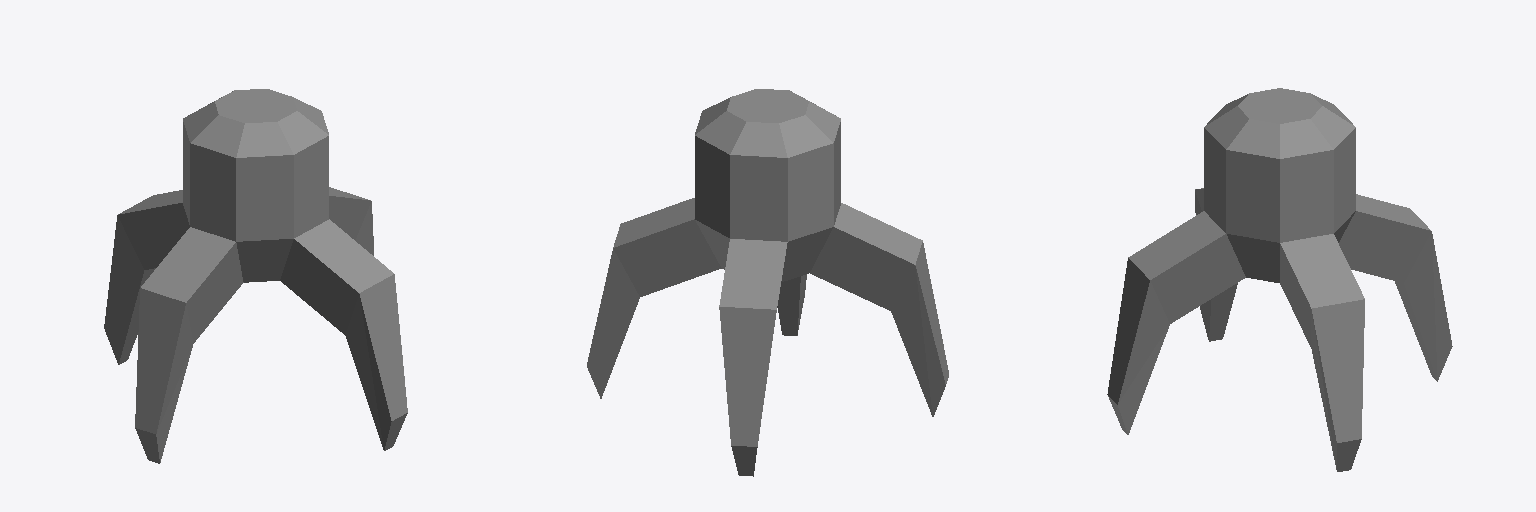
File: claw.obj
3 views of the same model, side by side, from view 1: azimuth 30°, elevation 25°; view 2: azimuth 150°, elevation 25°; view 3: azimuth 270°, elevation 25° (orthographic).
Parts seen in each view (by area): view 1: Cylinder001; view 2: Cylinder001; view 3: Cylinder001.
Boxes of the visible parts, box(x1,y1,x2,y2) form: Cylinder001: box(104, 89, 407, 463); Cylinder001: box(587, 89, 948, 476); Cylinder001: box(1107, 88, 1452, 471).
Bounding box in the file's own units: 13.26 × 12.71 × 13.26.